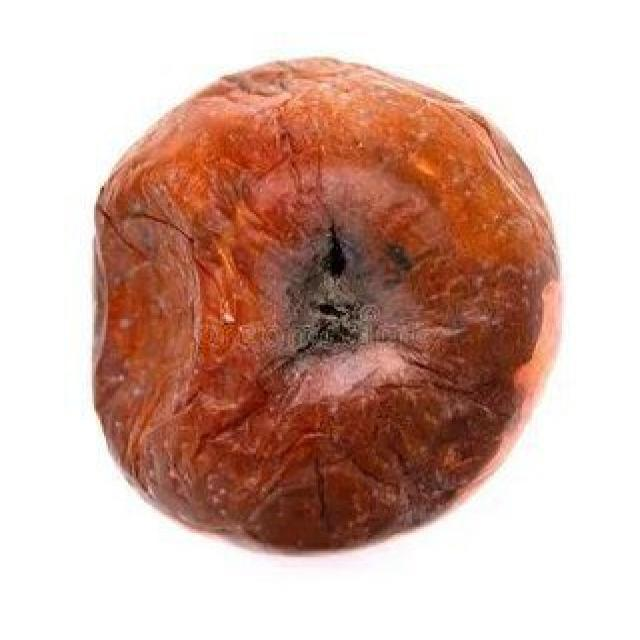Banana: (80, 48, 572, 563)
